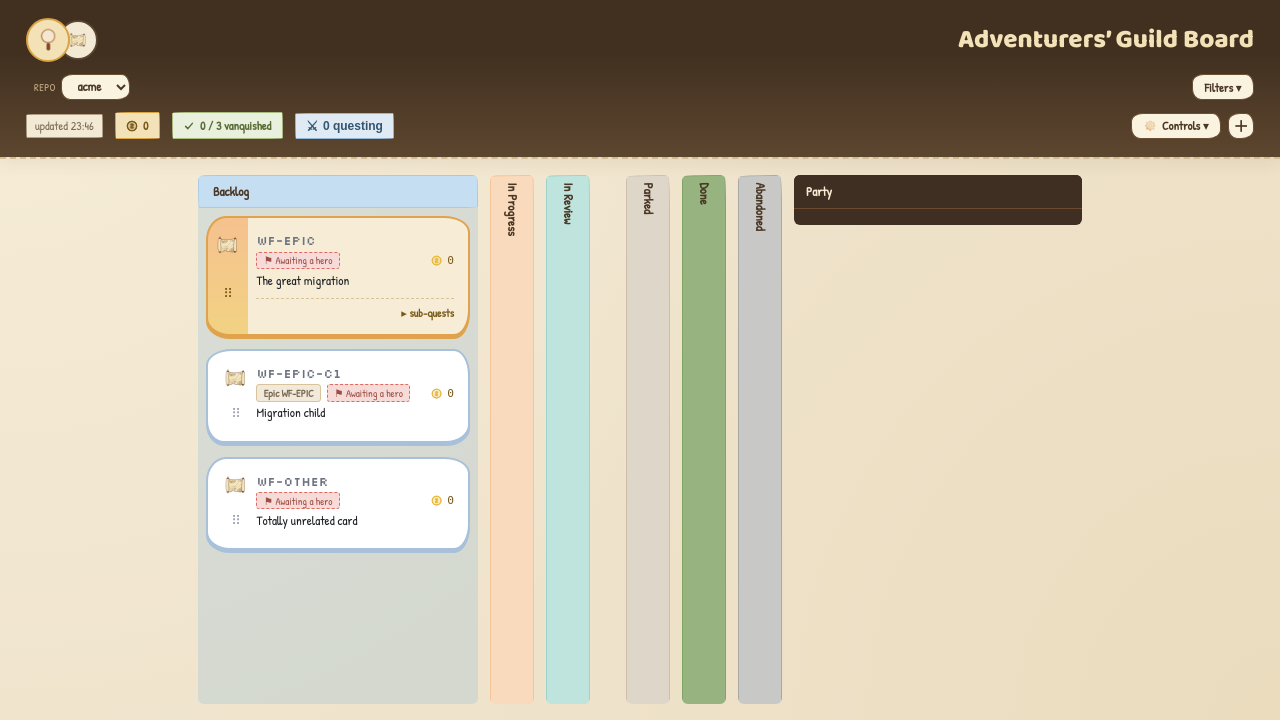
Test: <App/> — task 6: filter bar wiring (WF-059/060/061) › searching an epic's title reveals its children and hides unrelated cards
expect the button "Totally unrelated card" is shown: met, box [256, 512, 454, 529]
Click the button "Filters ▾" at (1223, 87), box [1192, 74, 1254, 100]
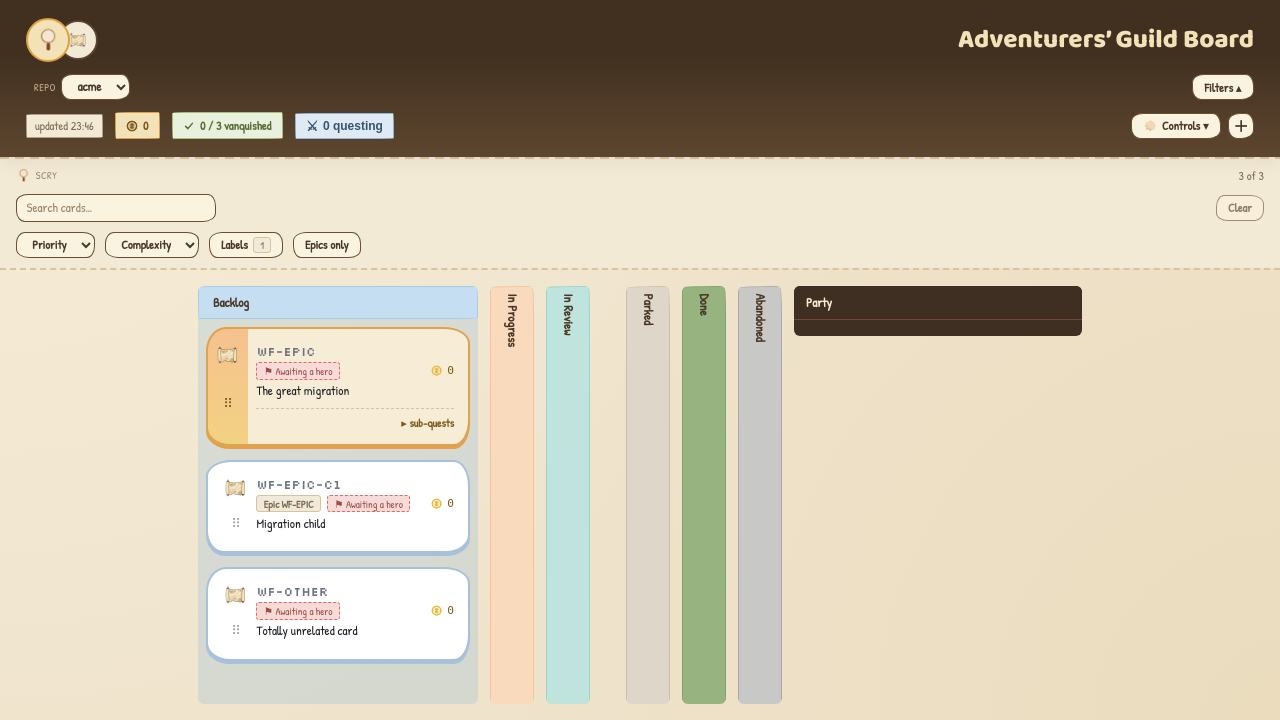
Type "migration" into the search field labelled "Search" at (116, 208), box [16, 194, 216, 222]
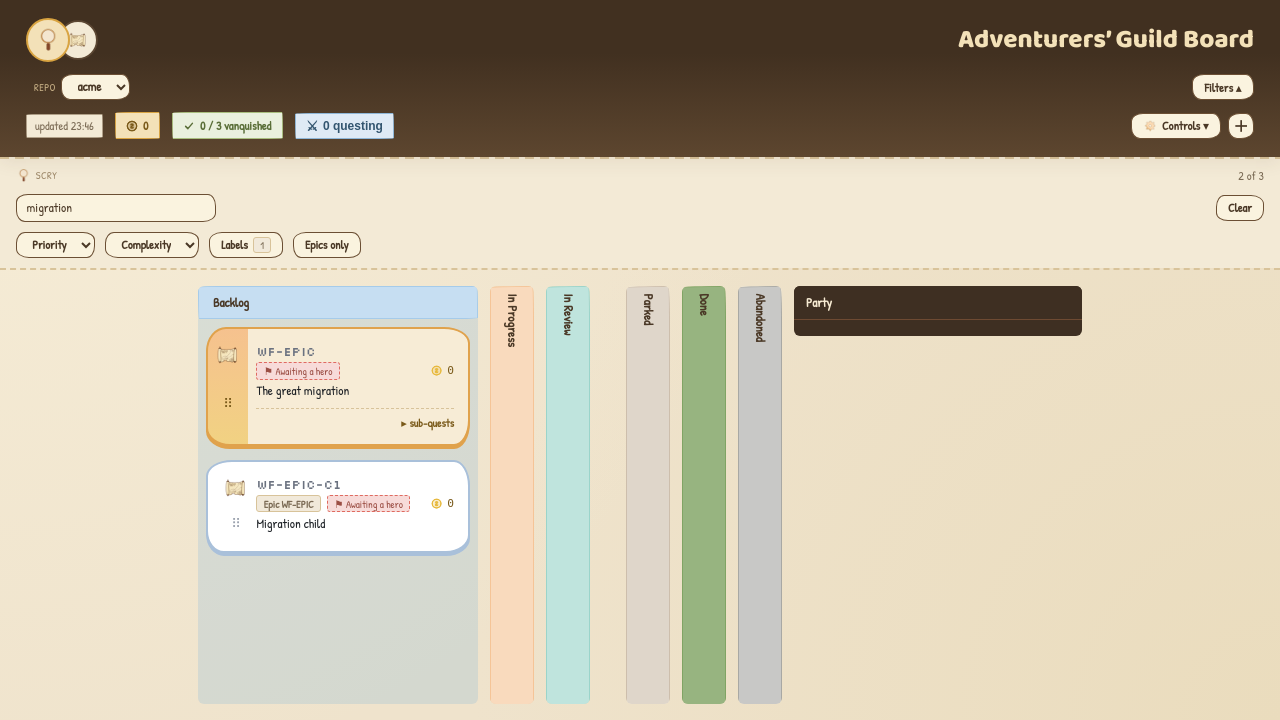
expect the button "The great migration" is shown: met, box [256, 382, 454, 399]
expect the button "Totally unrelated card" is gone: met
